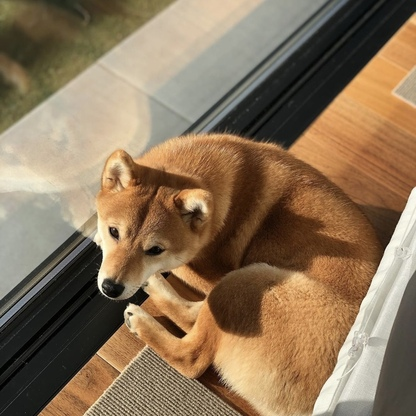shiba: (87, 126, 387, 416)
